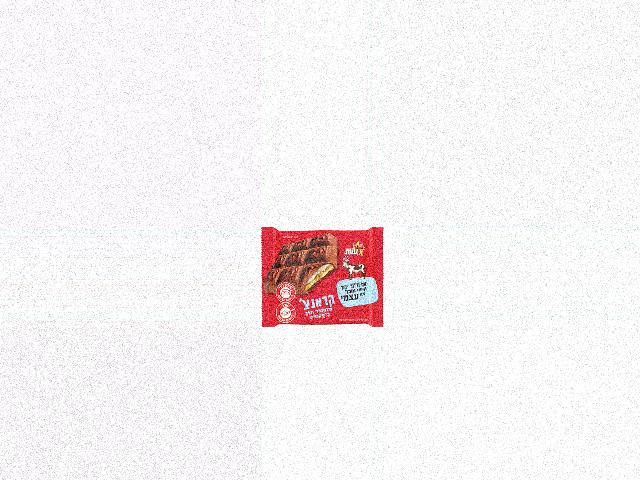chocolate: (263, 228, 379, 328)
